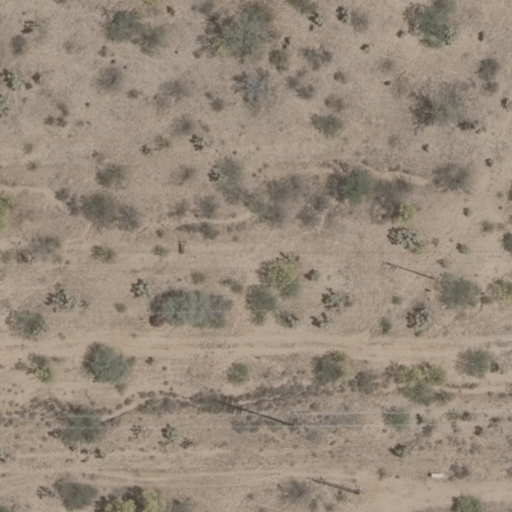DT: (278, 410, 307, 437)
